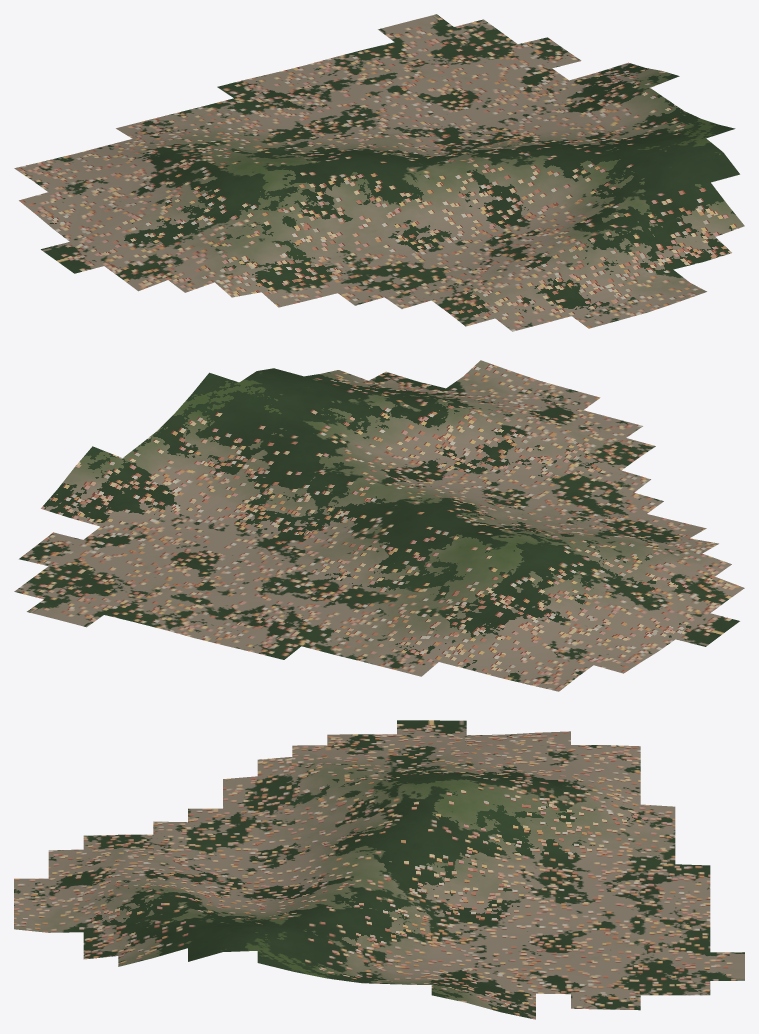
Rendered from SM_Fondale_Colle_Suolo_01_LOD2.fbx.
The picture shows the model from 3 angles, top to bottom: view 1: azimuth 30°, elevation 25°; view 2: azimuth 150°, elevation 25°; view 3: azimuth 270°, elevation 25°; orthographic projection.
Parts seen in each view (by area): view 1: SM_Fondale_Colle_Suolo_01_LOD2; view 2: SM_Fondale_Colle_Suolo_01_LOD2; view 3: SM_Fondale_Colle_Suolo_01_LOD2.
Part boxes in pixels (x1,y1,x2,y2): SM_Fondale_Colle_Suolo_01_LOD2: [14, 14, 744, 331]; SM_Fondale_Colle_Suolo_01_LOD2: [14, 360, 744, 691]; SM_Fondale_Colle_Suolo_01_LOD2: [14, 720, 744, 1019].
Size of the model in its own units: 122850 by 122850 by 9638.
1 material, 1 textured.
